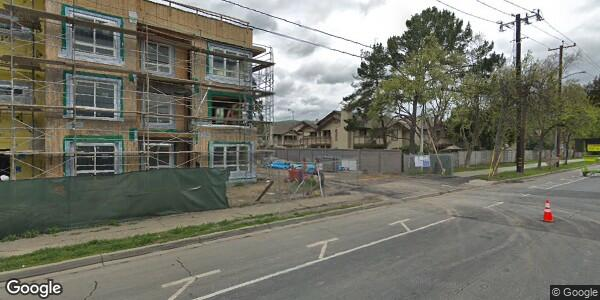Wood_Pole: (494, 5, 547, 174)
